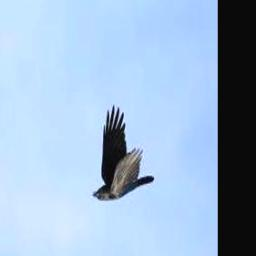Crow: (92, 105, 154, 201)
